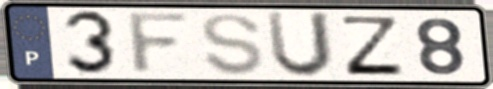3: (60, 8, 124, 78)
8: (414, 16, 469, 77)
F: (125, 10, 195, 78)
S: (199, 11, 267, 78)
U: (264, 9, 336, 81)
Z: (339, 14, 407, 77)
